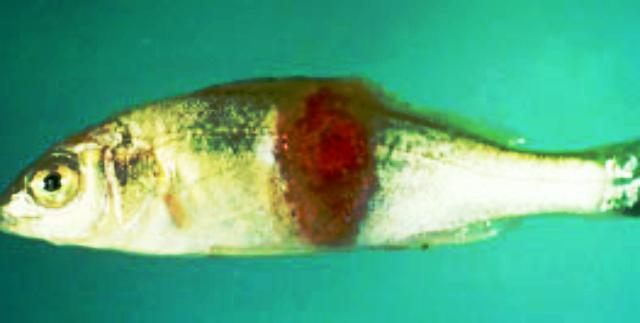Epizootic Ulcerative Syndrome -EUS-: (0, 78, 638, 253), (0, 83, 635, 253)
